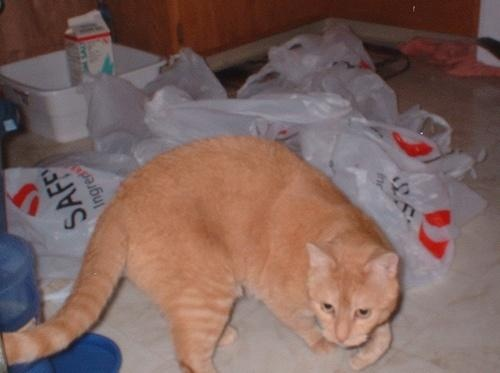cat: (1, 134, 401, 373)
